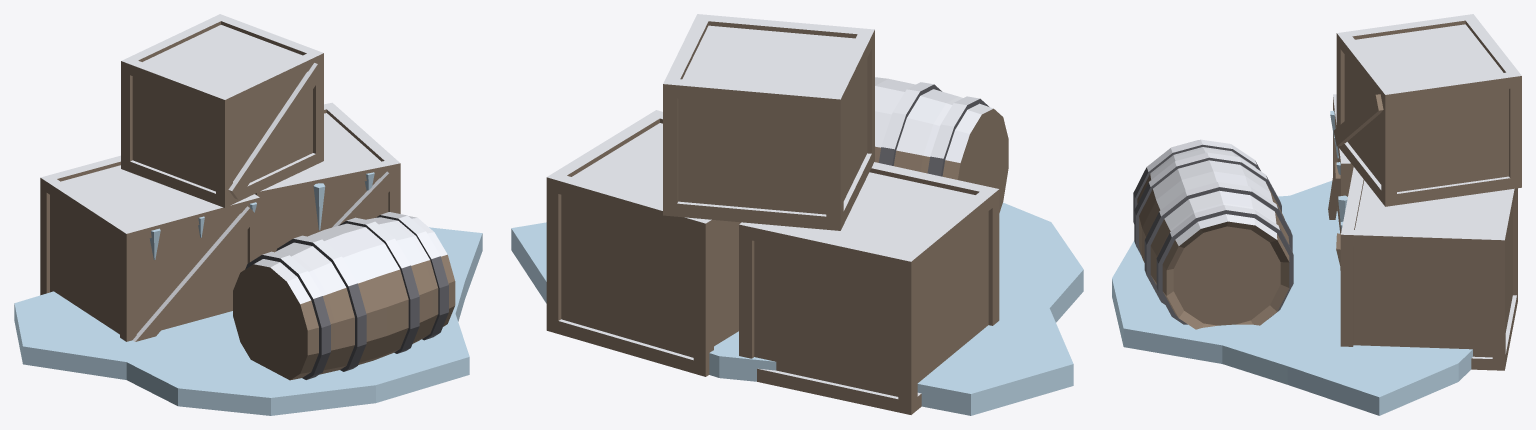
The model's file is PR_Cargas_C.fbx.
3 renders of one model, left to right at view 1: azimuth 30°, elevation 25°; view 2: azimuth 150°, elevation 25°; view 3: azimuth 270°, elevation 25°, orthographic. The views are drawn at different scales.
Visible parts, largest first — view 1: PR_Cargas_C; view 2: PR_Cargas_C; view 3: PR_Cargas_C.
Part boxes in pixels (x1,y1,x2,y2): PR_Cargas_C: (14,14,482,415); PR_Cargas_C: (511,14,1083,415); PR_Cargas_C: (1112,14,1521,415).
Bounding box in the file's own units: 2.68 × 1.31 × 1.99.
